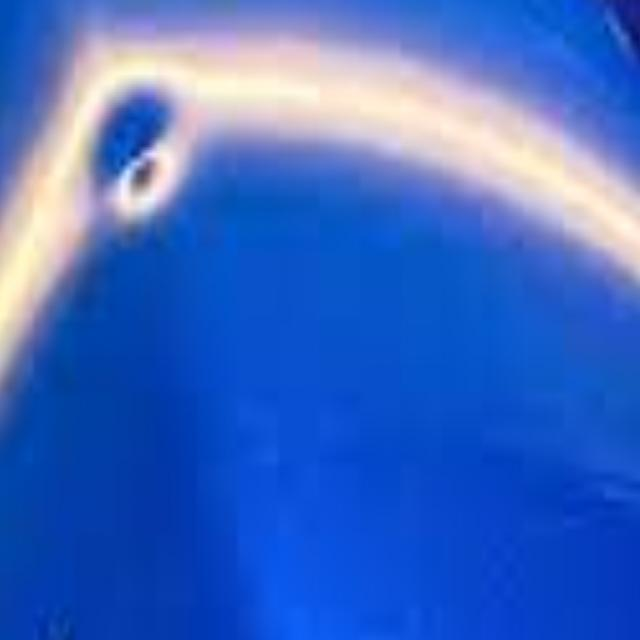dents: (71, 102, 216, 223)
